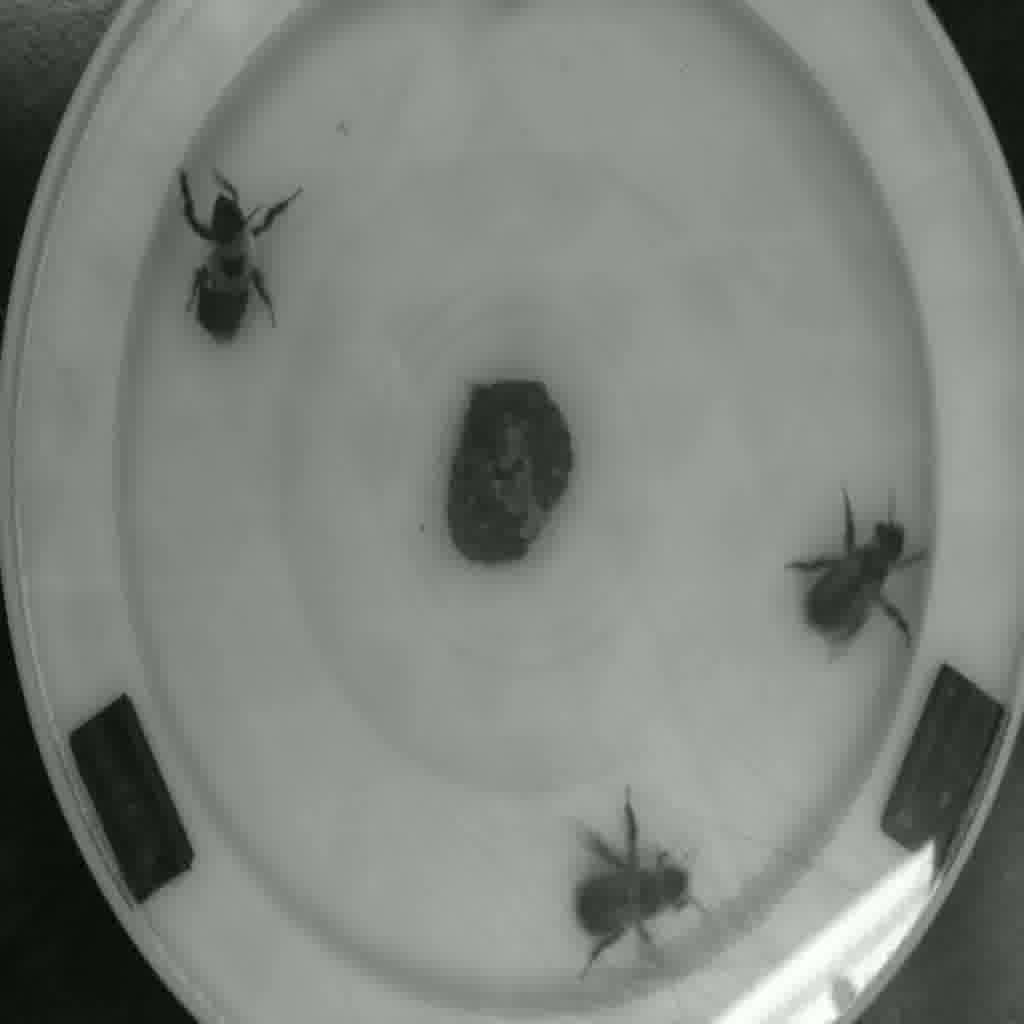bee: (139, 159, 311, 349), (557, 809, 710, 975), (787, 488, 935, 656)
